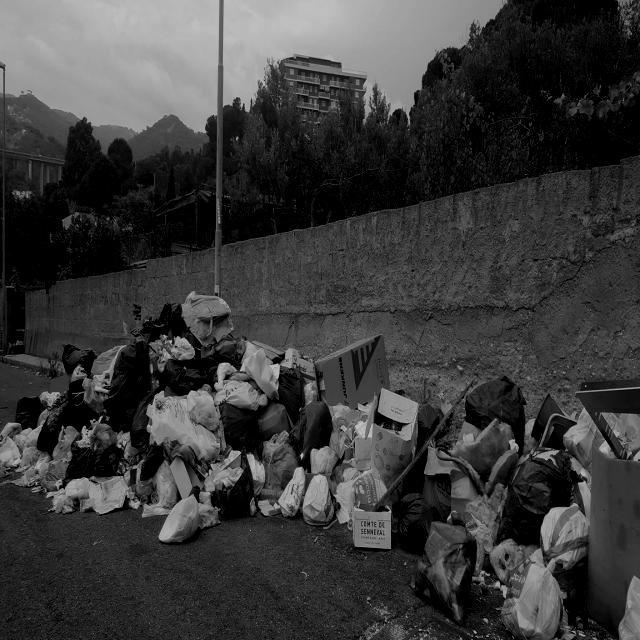high trash: (0, 292, 602, 640)
